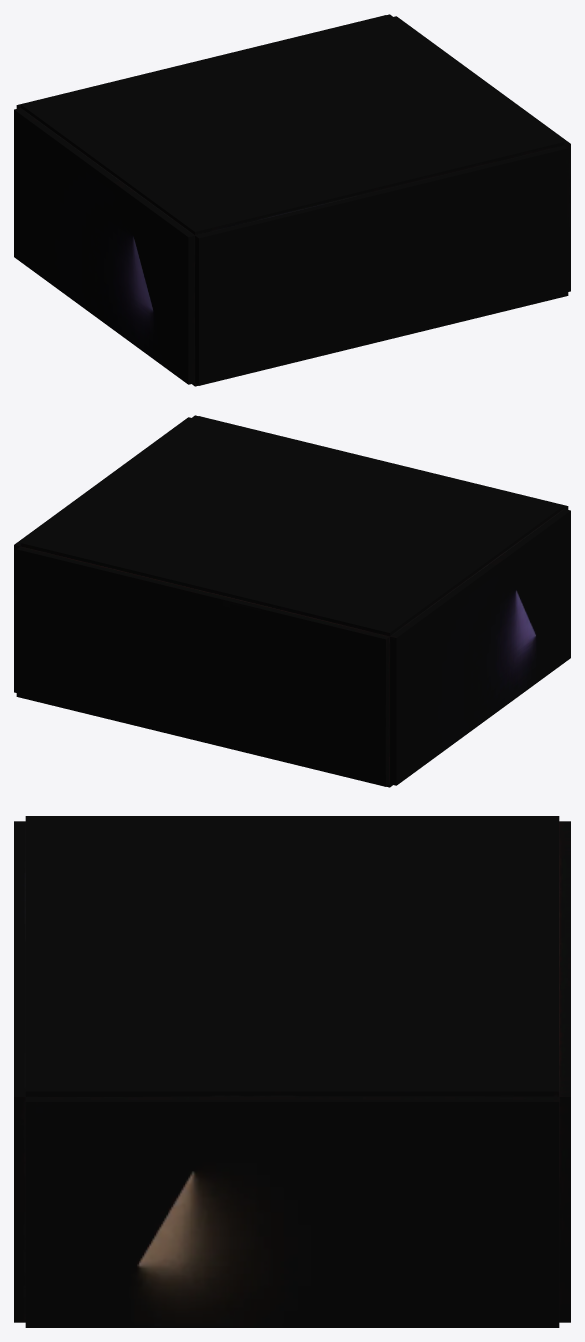
Rendered from workshop.glb.
3 renders of one model, top to bottom at view 1: azimuth 30°, elevation 25°; view 2: azimuth 150°, elevation 25°; view 3: azimuth 270°, elevation 25°, orthographic. The views are drawn at different scales.
Parts seen in each view (by area): view 1: bake_room; view 2: bake_room; view 3: bake_room.
Part boxes in pixels (x1,y1,x2,y2): bake_room: (14,14,570,386); bake_room: (14,415,570,787); bake_room: (14,816,570,1327).
Size of the model in its own units: 11.4 by 4.49 by 9.4.
Materials: 18 (10 with a texture image).
